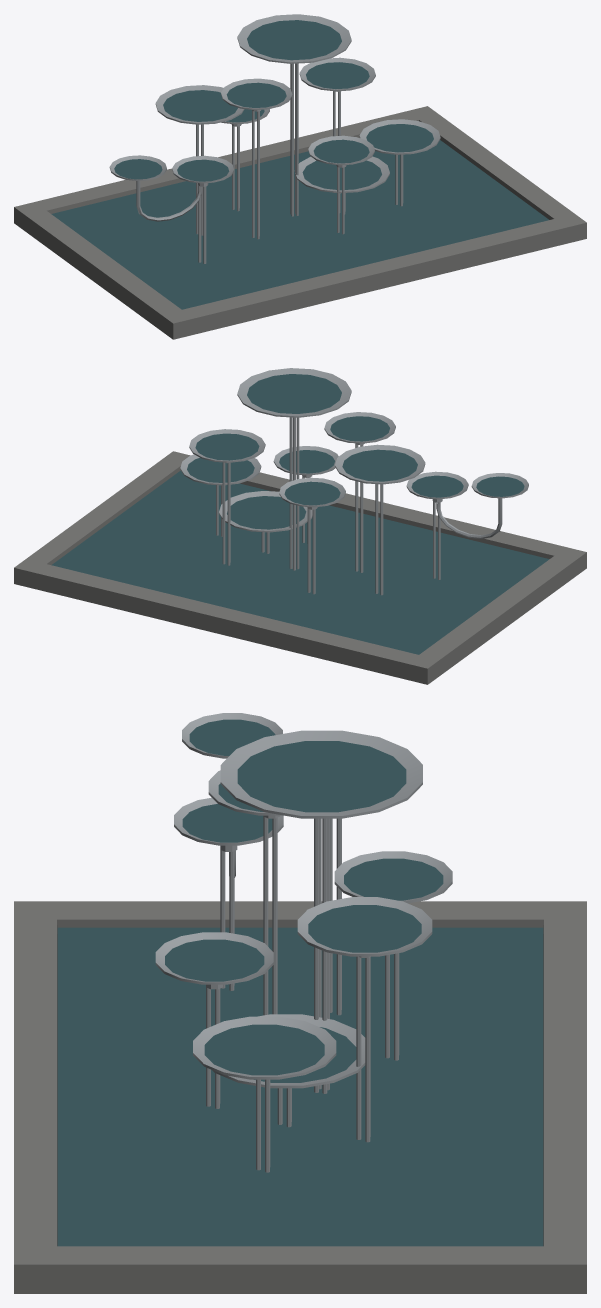
The model's file is mon_schalenbrunnen_prager.glb.
The picture shows the model from 3 angles, top to bottom: view 1: azimuth 30°, elevation 25°; view 2: azimuth 150°, elevation 25°; view 3: azimuth 270°, elevation 25°; orthographic projection. The views are drawn at different scales.
Visible parts, largest first — view 1: mon_schalenbrunnen_prager; view 2: mon_schalenbrunnen_prager; view 3: mon_schalenbrunnen_prager.
Boxes of the visible parts, <box> form: mon_schalenbrunnen_prager: <box>14,14,586,339</box>; mon_schalenbrunnen_prager: <box>14,368,586,684</box>; mon_schalenbrunnen_prager: <box>14,713,586,1293</box>.
Bounding box in the file's own units: 12 × 5.22 × 8.
